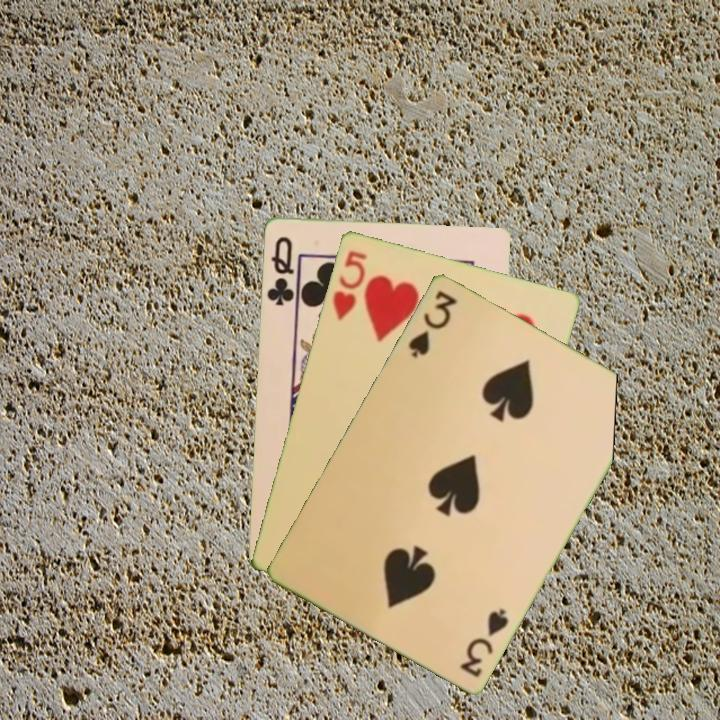3s: (456, 604, 512, 680), (404, 286, 461, 360)
5h: (328, 246, 370, 323)
Qc: (263, 232, 297, 308)
